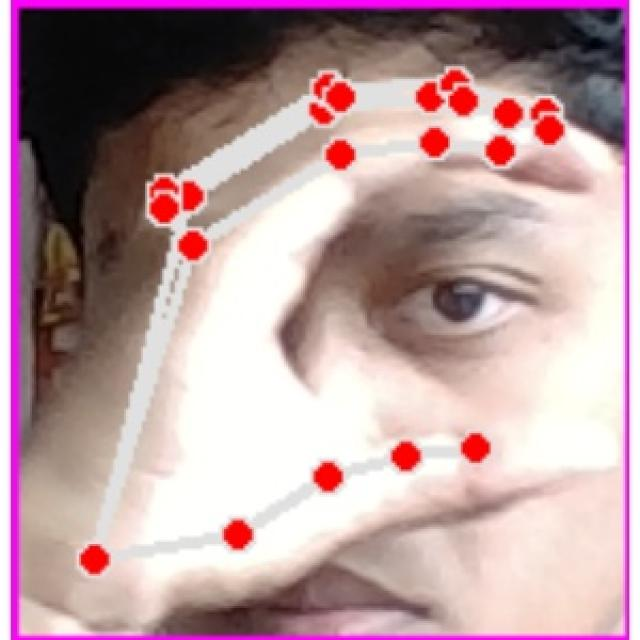C: (29, 53, 615, 621)
